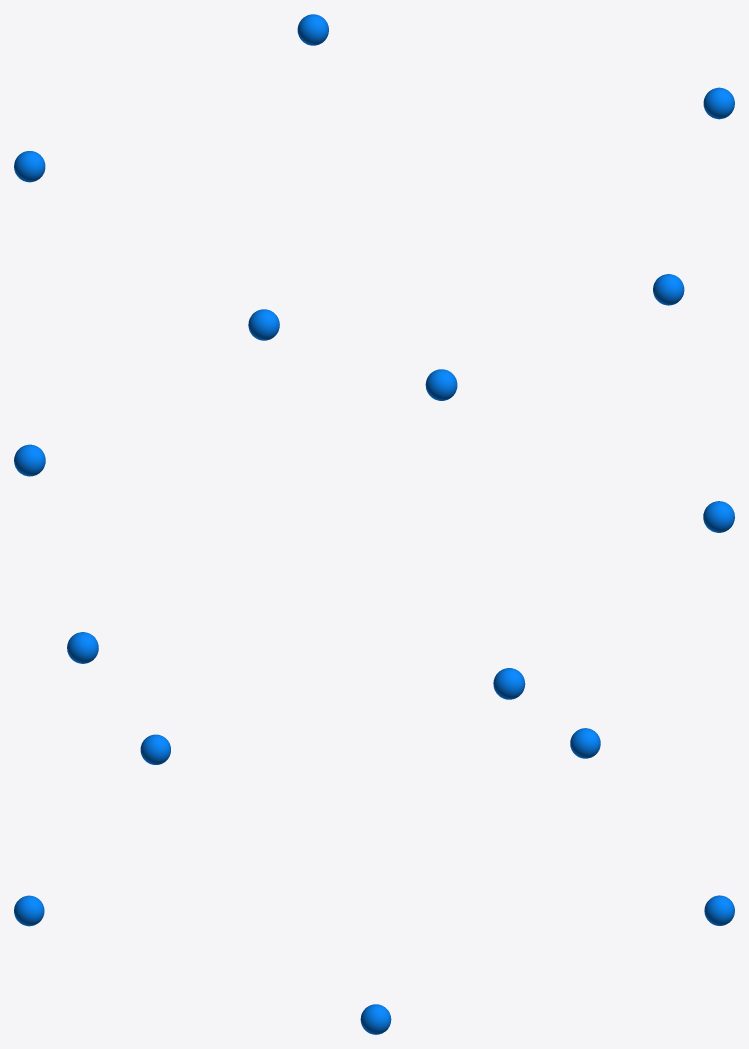
3 renders of one model, top to bottom at view 1: azimuth 30°, elevation 25°; view 2: azimuth 150°, elevation 25°; view 3: azimuth 270°, elevation 25°, orthographic. The views are drawn at different scales.
Visible parts, largest first — view 1: Sphere052; view 2: Sphere052; view 3: Sphere052.
Part boxes in pixels (box(x1,y1,x2,y2)): Sphere052: box(14, 14, 734, 340); Sphere052: box(14, 369, 734, 699); Sphere052: box(14, 728, 734, 1034).
Size of the model in its own units: 183 by 8.22 by 193.
